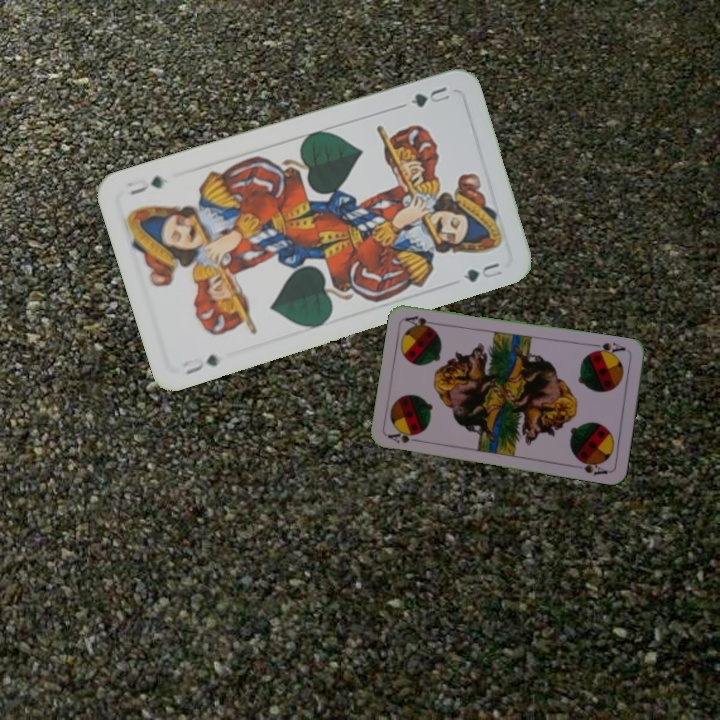GU: (406, 82, 454, 110), (179, 350, 223, 377)
SA: (588, 338, 628, 359), (384, 427, 425, 446)
